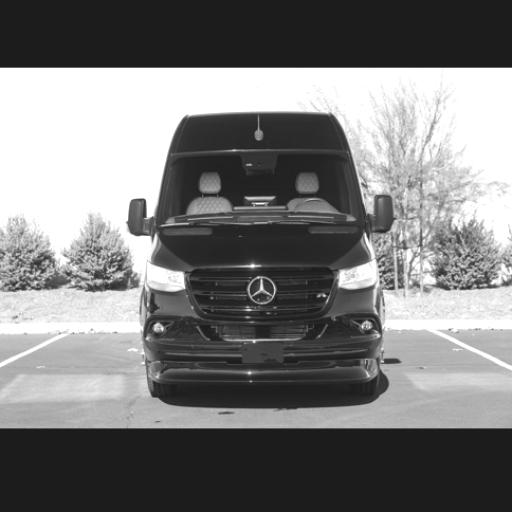van: (127, 108, 395, 410)
